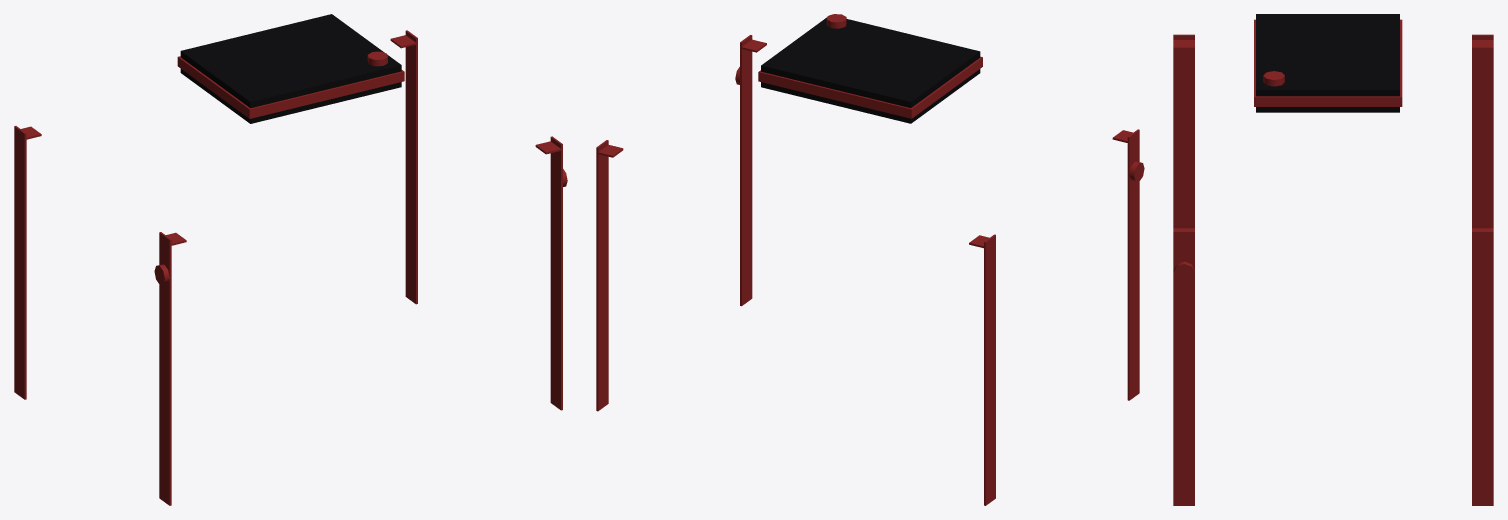
File: z05_seal.obj
3 renders of one model, left to right at view 1: azimuth 30°, elevation 25°; view 2: azimuth 150°, elevation 25°; view 3: azimuth 270°, elevation 25°, orthographic. The views are drawn at different scales.
Visible parts, largest first — view 1: z05_seal; view 2: z05_seal; view 3: z05_seal.
Part boxes in pixels (x1,y1,x2,y2): z05_seal: [14, 14, 567, 505]; z05_seal: [596, 14, 1144, 505]; z05_seal: [1173, 14, 1493, 505].
Size of the model in its own units: 1.33 by 1.11 by 0.89.
